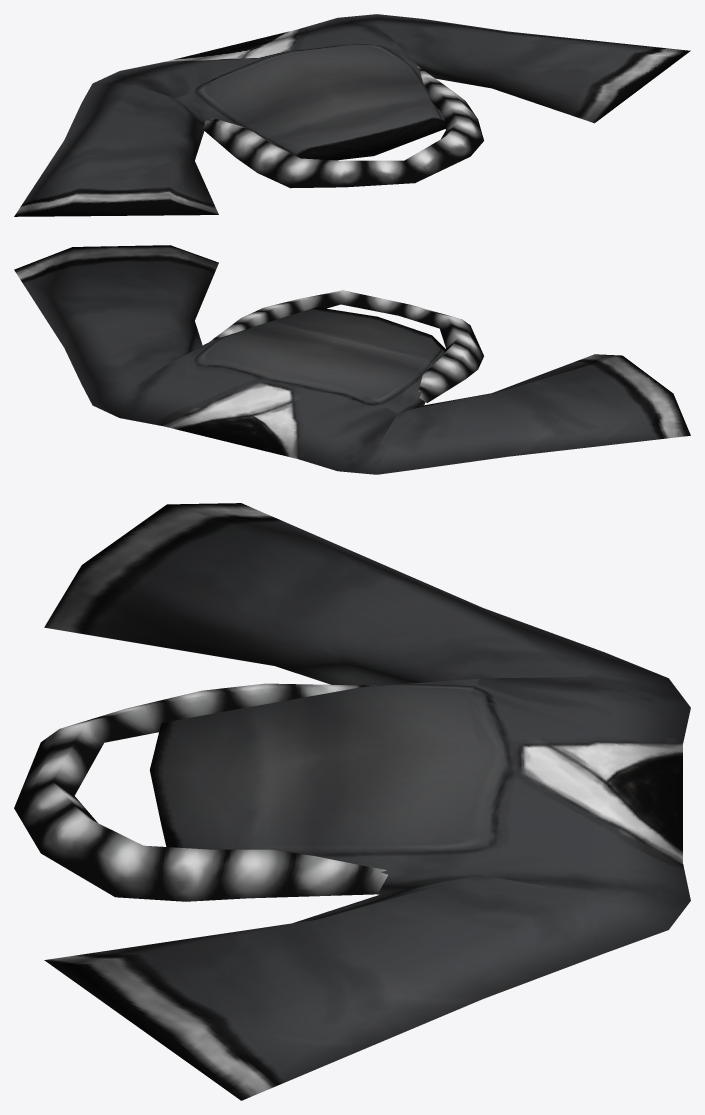
The model's file is GAM_Armor_Monk.FBX.
The picture shows the model from 3 angles, top to bottom: view 1: azimuth 30°, elevation 25°; view 2: azimuth 150°, elevation 25°; view 3: azimuth 270°, elevation 25°; orthographic projection. The views are drawn at different scales.
Parts seen in each view (by area): view 1: GAM_Armor_Monk; view 2: GAM_Armor_Monk; view 3: GAM_Armor_Monk.
Boxes of the visible parts, x1,y1,x2,y2 form: GAM_Armor_Monk: [14, 14, 690, 216]; GAM_Armor_Monk: [14, 245, 690, 474]; GAM_Armor_Monk: [14, 503, 690, 1100].
Size of the model in its own units: 76.03 by 3.85 by 36.29.
